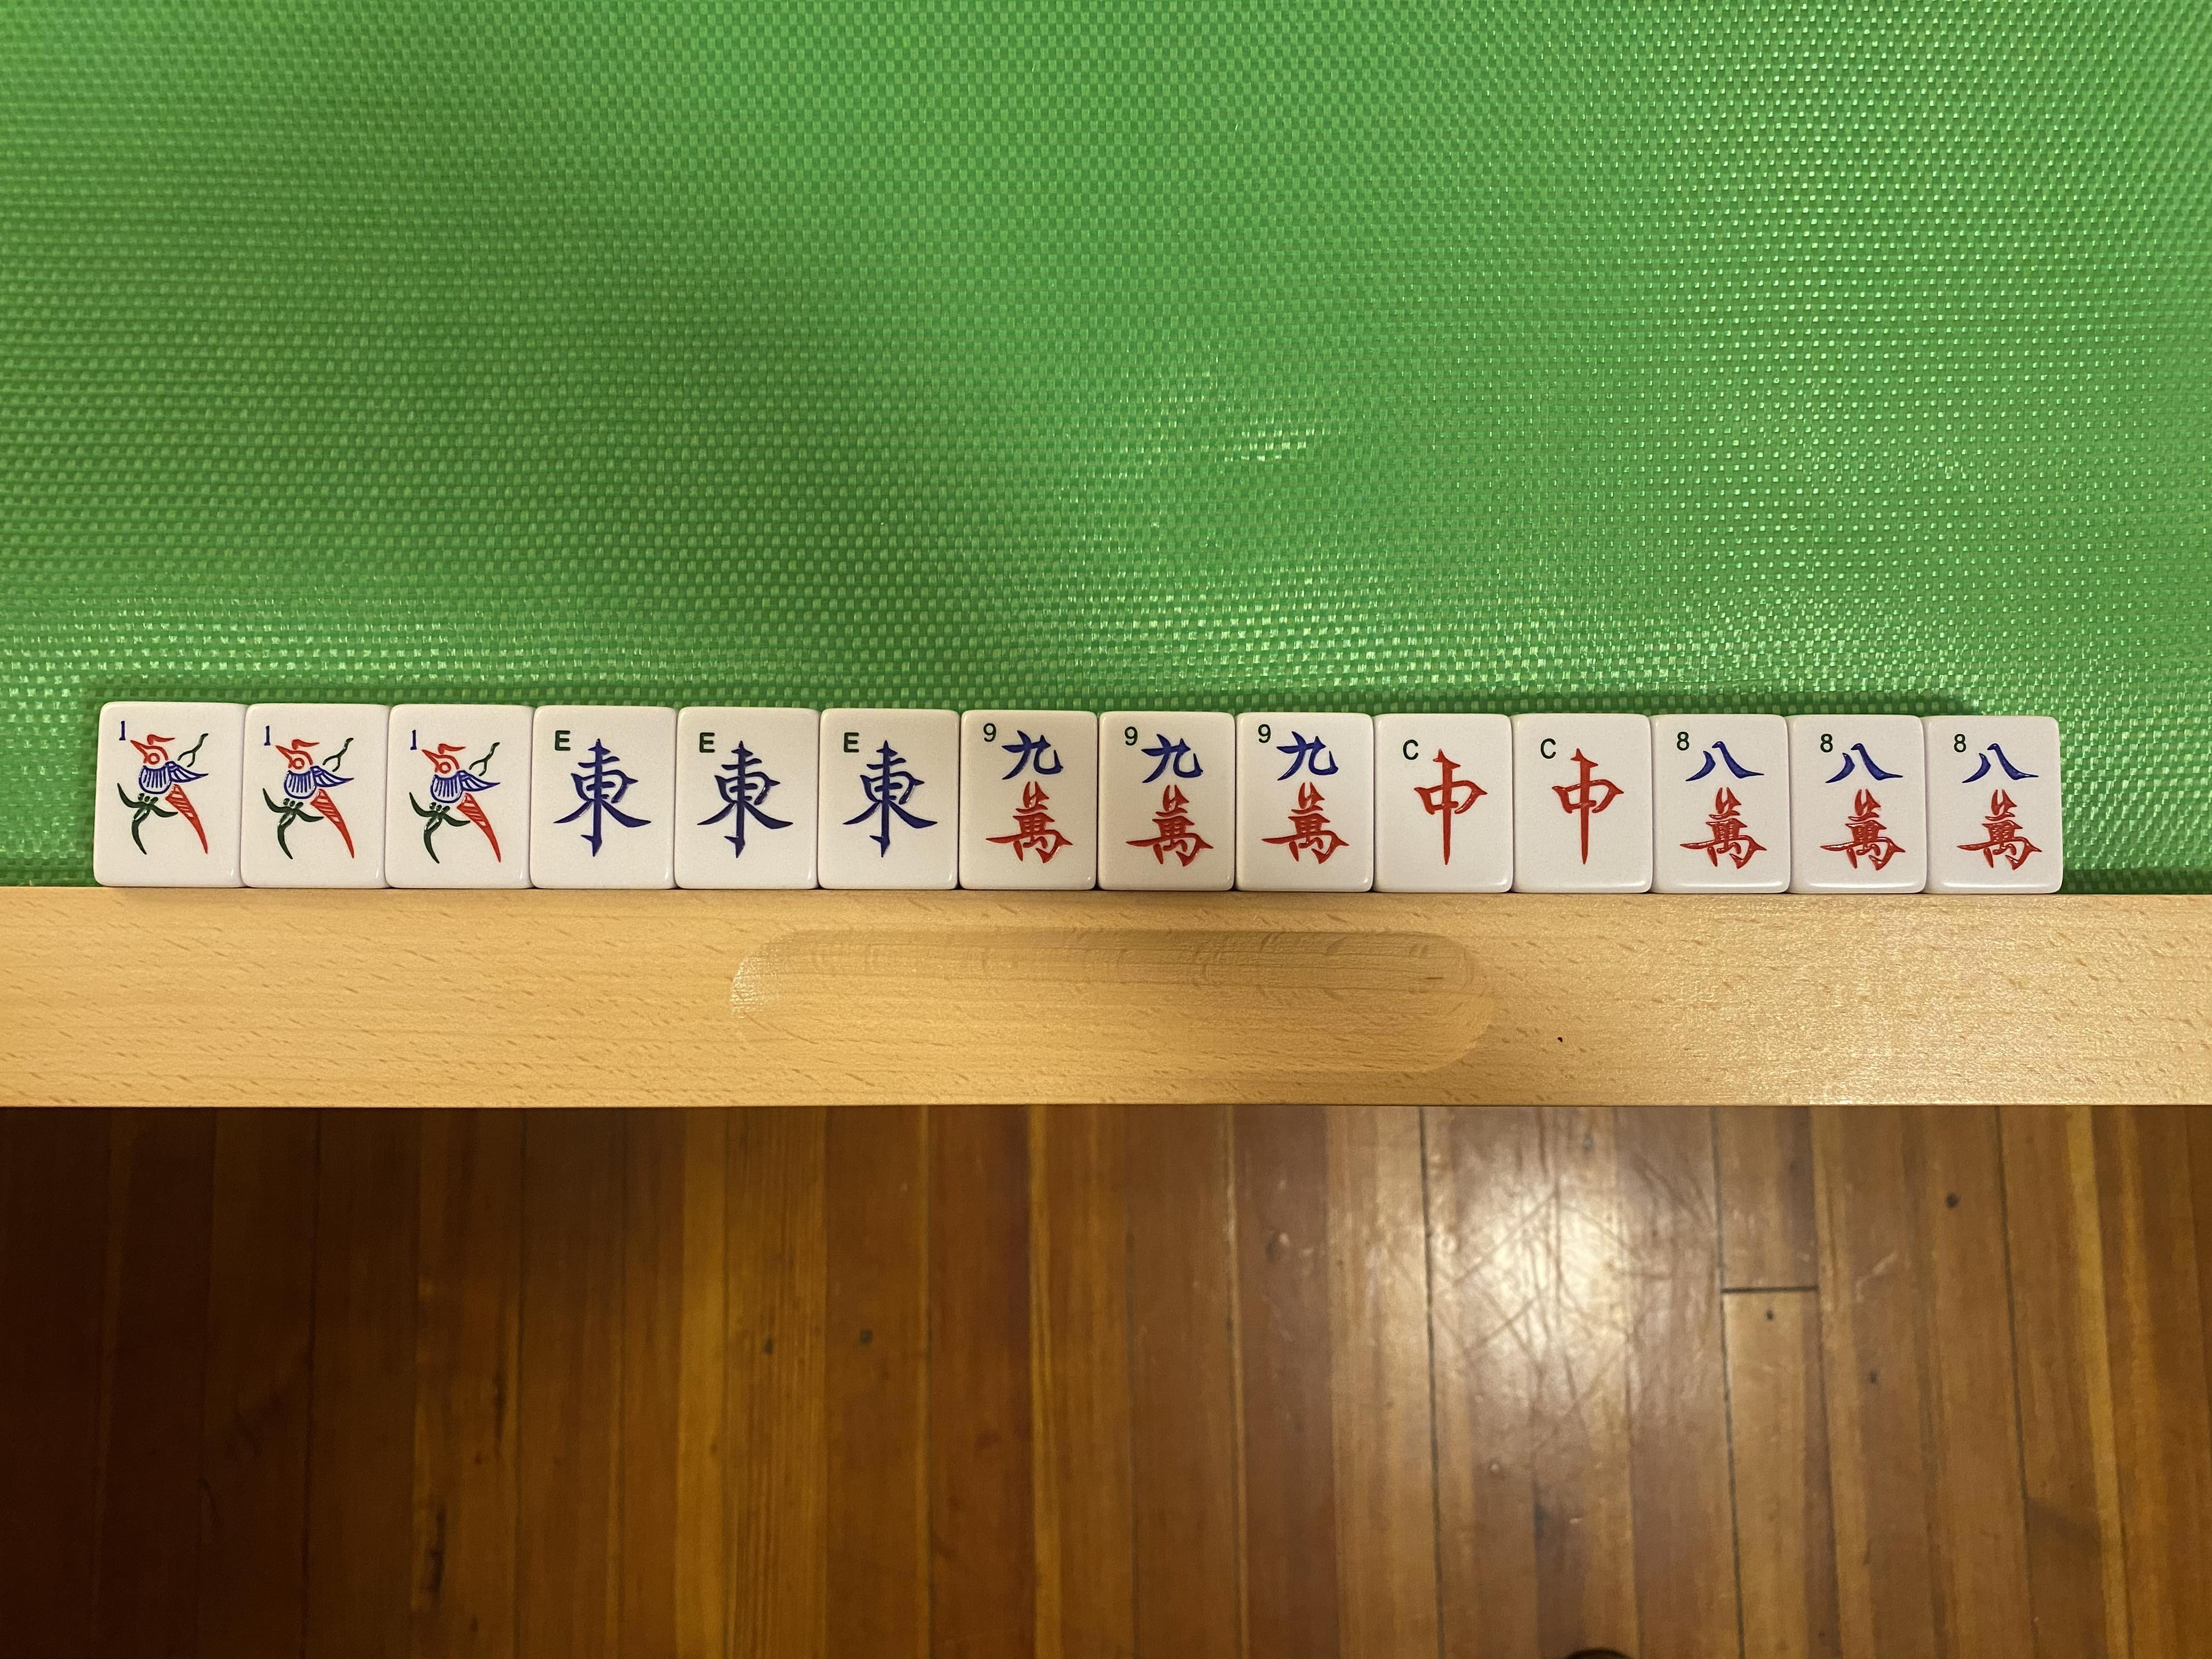bamboo-one: (387, 708, 528, 882), (101, 702, 232, 882), (247, 708, 374, 882)
character-eight: (1655, 720, 1785, 889), (1796, 721, 1923, 889), (1935, 720, 2057, 890)
character-nine: (963, 714, 1097, 889), (1101, 718, 1237, 885), (1238, 720, 1372, 885)
honor-east_wind: (679, 713, 812, 890), (822, 714, 958, 887), (540, 713, 674, 887)
honor-red_dragon: (1519, 718, 1648, 892), (1379, 720, 1508, 885)
